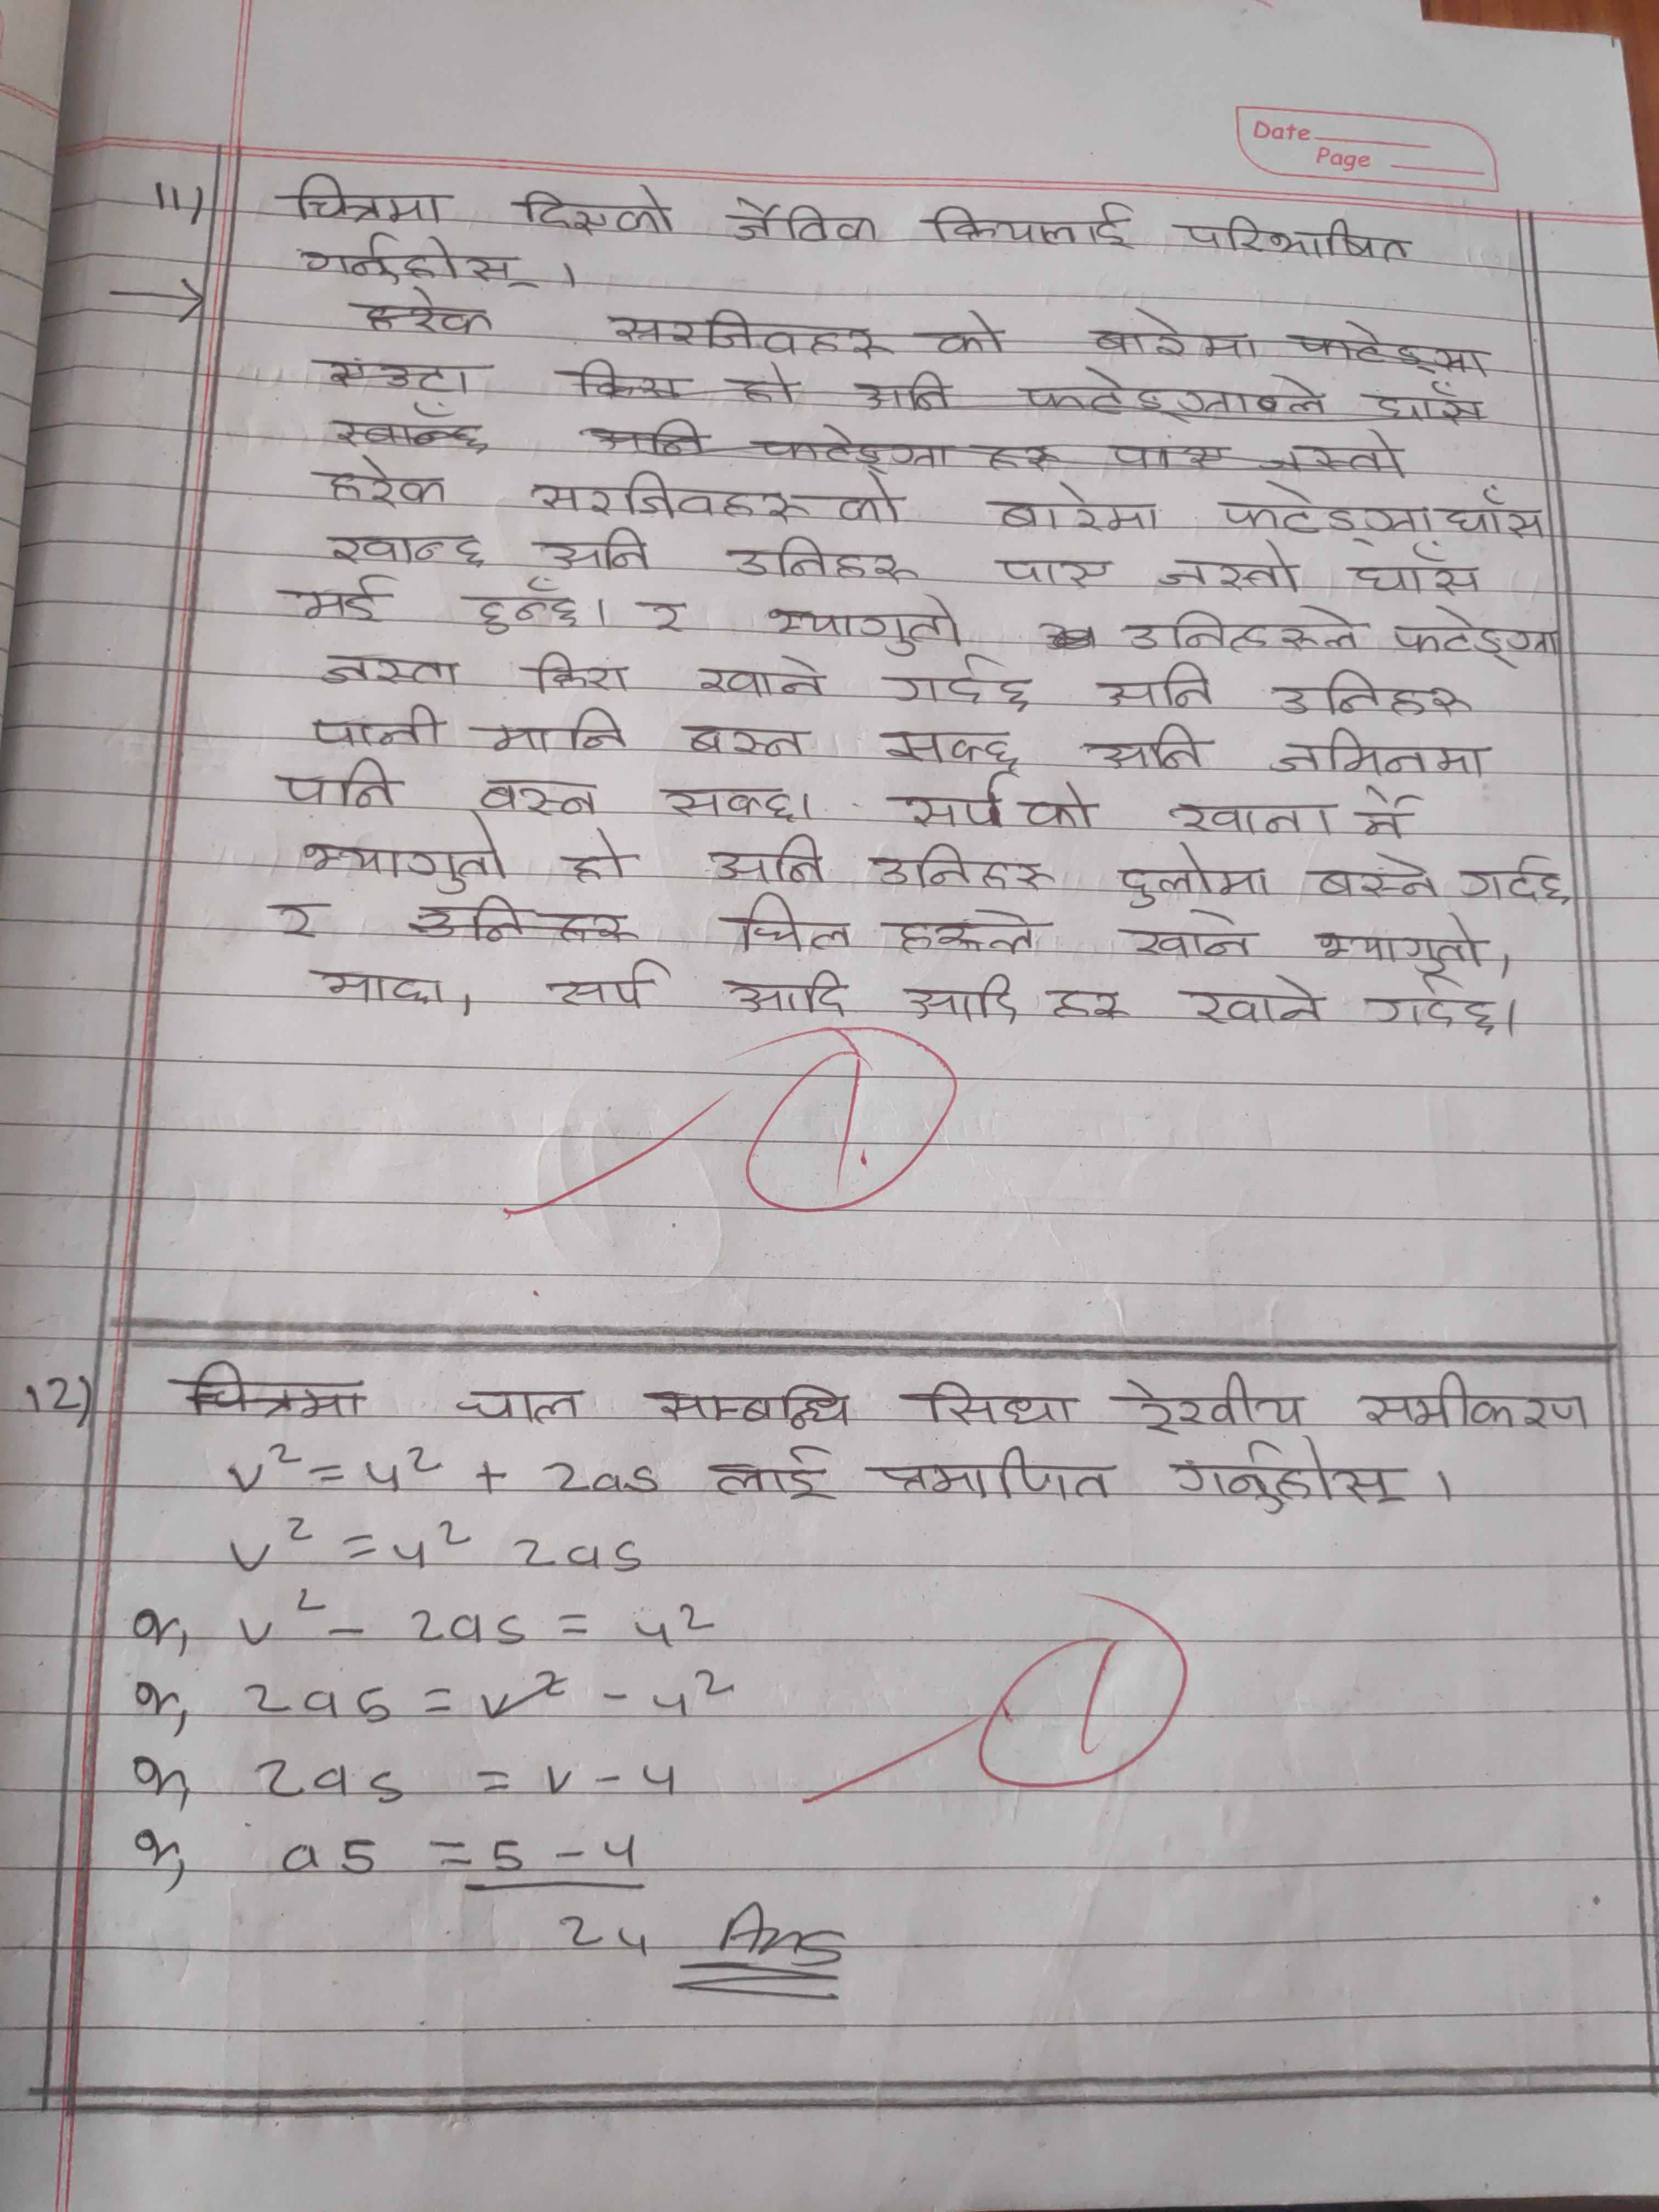text: (535, 463, 908, 526), (1208, 481, 1544, 543), (1164, 1439, 1419, 1515), (1019, 369, 1337, 420), (866, 1444, 1121, 1505), (298, 232, 537, 296), (1112, 1360, 1312, 1437), (613, 308, 885, 364), (884, 770, 1110, 833), (293, 829, 512, 894), (1359, 1372, 1593, 1432), (1119, 601, 1366, 657), (1176, 211, 1412, 265), (1272, 664, 1478, 723), (1269, 730, 1499, 782), (1290, 319, 1492, 378), (723, 529, 924, 589), (765, 599, 965, 658), (640, 1374, 859, 1428), (920, 199, 1147, 249), (1310, 911, 1493, 972), (1087, 303, 1263, 364), (979, 484, 1171, 538), (1385, 611, 1565, 669), (1115, 843, 1274, 907), (866, 843, 1065, 894), (730, 885, 861, 961), (1161, 786, 1340, 841), (514, 181, 683, 239), (481, 704, 640, 763), (1258, 427, 1420, 484), (1180, 968, 1328, 1031), (1363, 977, 1502, 1043), (884, 906, 1060, 958), (697, 1442, 836, 1507), (875, 660, 1040, 714), (924, 1379, 1079, 1437), (1340, 542, 1493, 599), (282, 172, 455, 223), (749, 427, 953, 469), (720, 195, 880, 247), (270, 752, 406, 813), (329, 402, 493, 453), (1154, 540, 1305, 594), (875, 716, 1019, 772), (308, 700, 451, 756), (1124, 906, 1256, 965), (678, 711, 819, 765), (310, 643, 460, 693), (721, 963, 856, 1019), (317, 355, 504, 395), (321, 528, 491, 571), (545, 954, 669, 1014), (1079, 716, 1209, 772), (350, 287, 498, 336), (1450, 845, 1567, 906), (319, 455, 453, 507), (903, 967, 1025, 1024), (699, 650, 835, 700), (281, 568, 396, 627), (706, 824, 821, 883), (1319, 852, 1441, 906), (467, 578, 580, 636), (652, 782, 798, 826), (448, 1385, 599, 1426), (476, 772, 606, 819), (1098, 662, 1218, 712), (988, 545, 1127, 589), (317, 963, 455, 1007), (1338, 784, 1431, 848), (1366, 380, 1490, 427), (566, 357, 681, 406), (1098, 435, 1230, 475), (847, 369, 958, 416), (586, 420, 716, 458), (559, 831, 641, 892), (537, 526, 655, 568), (516, 653, 634, 695), (920, 307, 1011, 361), (1042, 981, 1138, 1028), (260, 894, 331, 951), (983, 435, 1060, 479), (732, 366, 800, 408), (634, 597, 694, 634)
